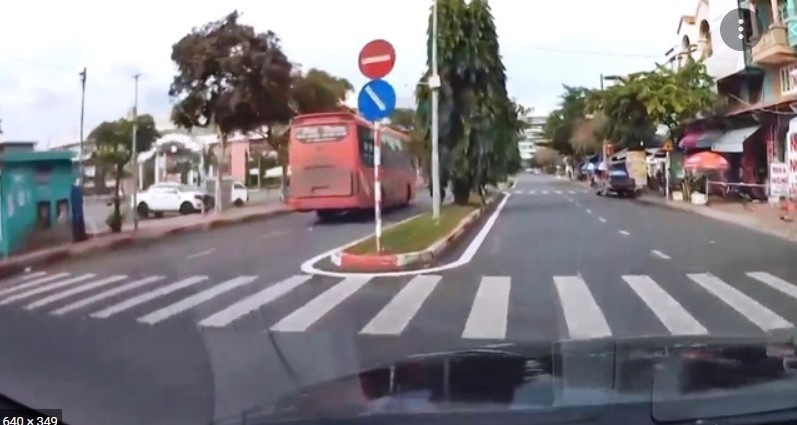Cam di nguoc chieu: (358, 39, 395, 79)
Huong di phai re phai: (358, 79, 396, 120)
